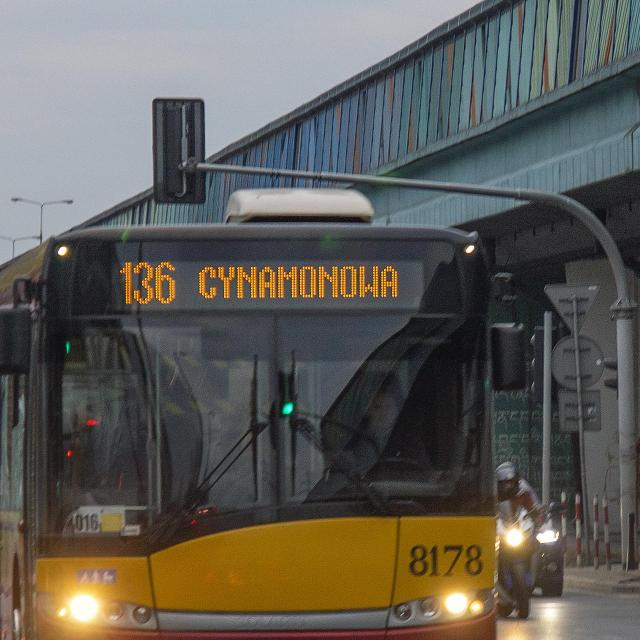Bus: (0, 222, 496, 640)
